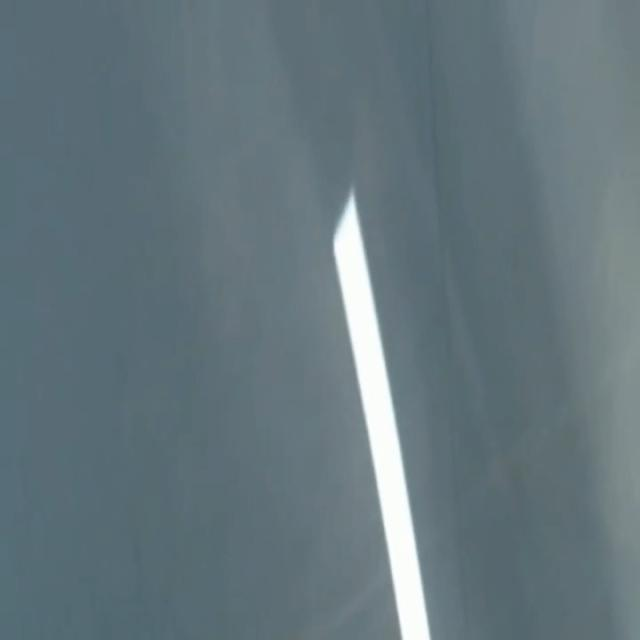center: (333, 191, 430, 639)
